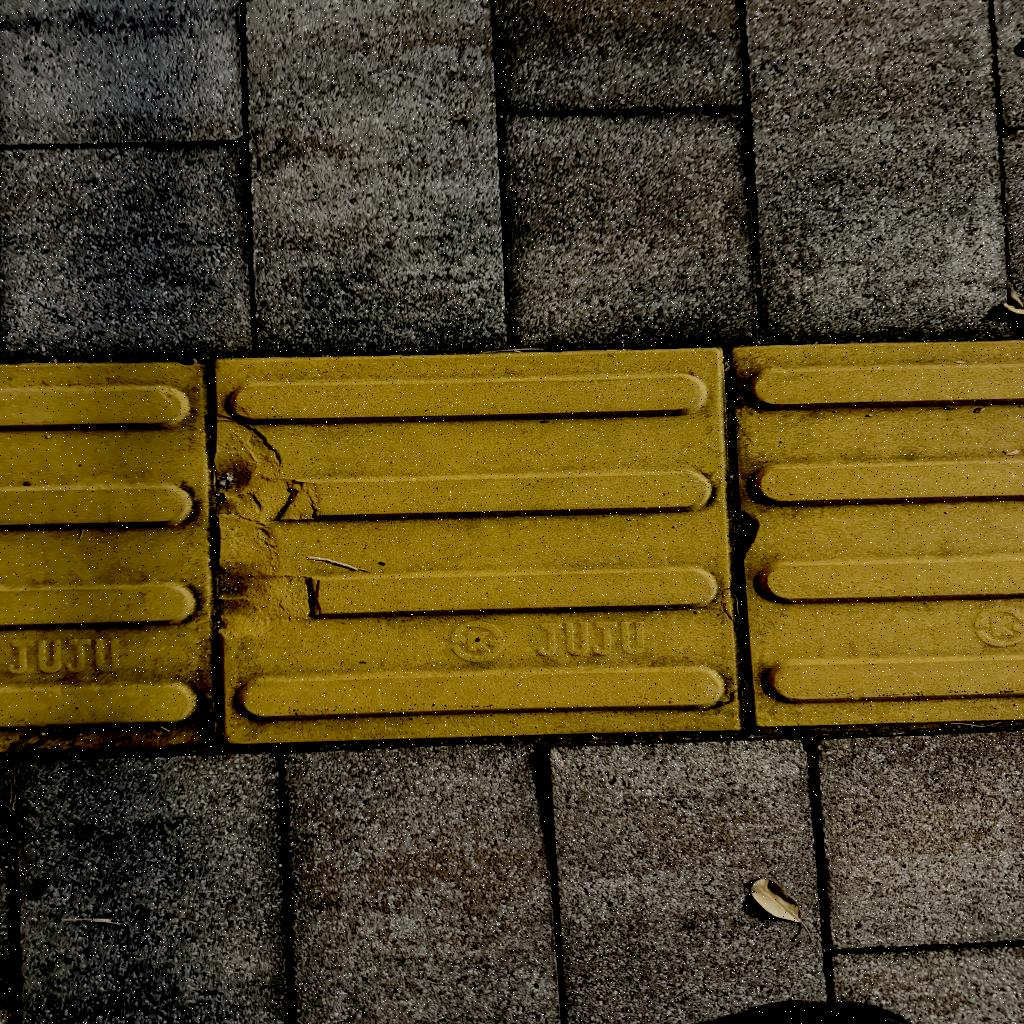Straight block broken: (214, 350, 736, 737)
